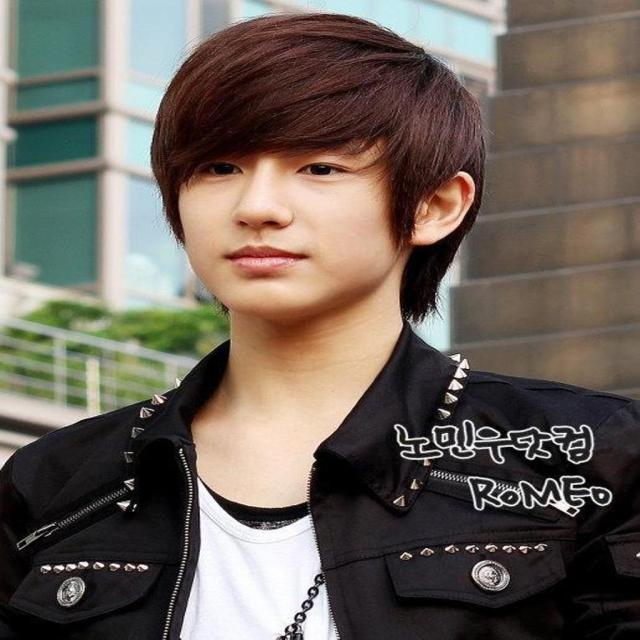Face: (133, 107, 439, 351)
